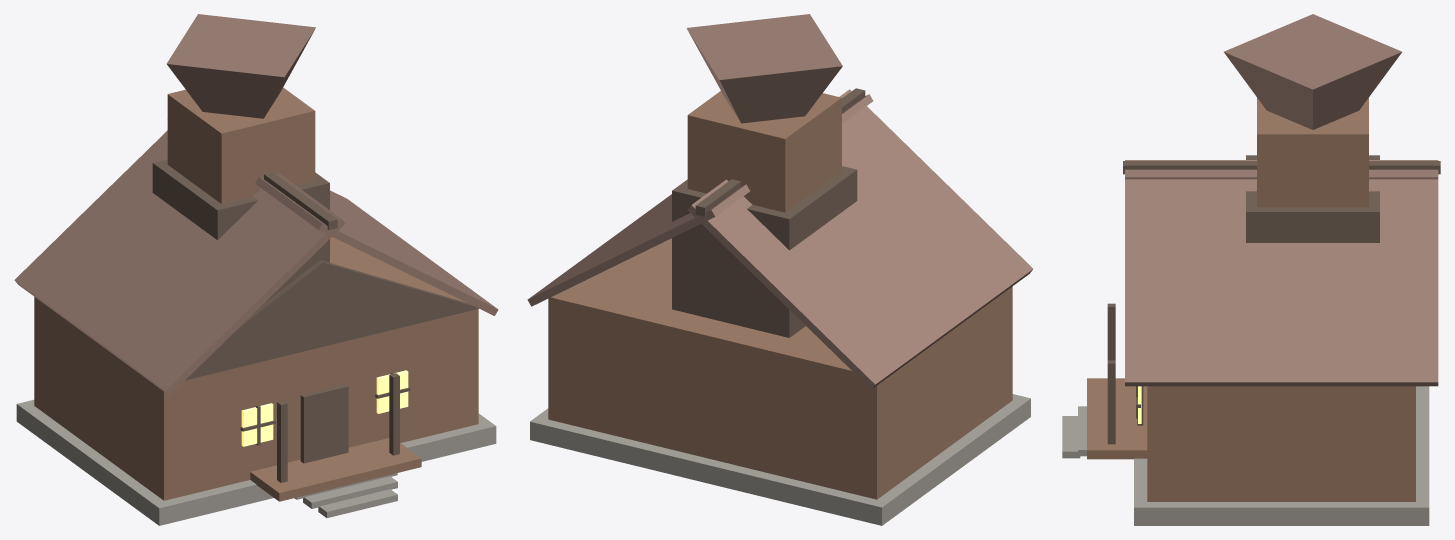
Rendered from Midgard_Old_Farm_V1_YUP.glb.
3 renders of one model, left to right at view 1: azimuth 30°, elevation 25°; view 2: azimuth 150°, elevation 25°; view 3: azimuth 270°, elevation 25°, orthographic. The views are drawn at different scales.
Visible parts, largest first — view 1: Main, RoofL, Gable, TowerUpper, TowerRoof, Foundation, RoofR, Porch, Tower, Door, Step1, Step2 (+5 smaller); view 2: Main, RoofL, Foundation, TowerUpper, Tower, TowerRoof, RoofR, RoofRidge; view 3: RoofR, Main, TowerRoof, TowerUpper, Foundation, Tower, Porch, RoofL, RoofRidge, Post1.5, Step2, Post-1.5 (+1 smaller).
Part boxes in pixels (x1,y1,x2,y2): Main: (34, 237, 478, 500); RoofL: (14, 130, 345, 395); Gable: (185, 260, 478, 380); TowerUpper: (167, 87, 315, 203); TowerRoof: (166, 14, 315, 118); Foundation: (16, 399, 496, 525); RoofR: (255, 177, 498, 315); Porch: (250, 438, 421, 501); Tower: (152, 159, 329, 303); Door: (300, 384, 348, 463); Step1: (303, 476, 397, 508); Step2: (318, 489, 397, 517); Main: (548, 238, 1012, 499); RoofL: (688, 89, 1032, 389); Foundation: (530, 394, 1030, 525); TowerUpper: (687, 91, 841, 212); Tower: (672, 166, 857, 337); TowerRoof: (686, 14, 842, 123); RoofR: (527, 94, 873, 306); RoofRidge: (695, 88, 865, 216); RoofR: (1125, 160, 1438, 386); Main: (1147, 386, 1415, 501); TowerRoof: (1224, 14, 1401, 129); TowerUpper: (1257, 98, 1368, 207); Foundation: (1134, 386, 1429, 525); Tower: (1246, 155, 1379, 242); Porch: (1087, 378, 1147, 459); RoofL: (1125, 169, 1438, 179); RoofRidge: (1123, 161, 1440, 174); Post1.5: (1107, 360, 1115, 444); Step2: (1062, 416, 1080, 458); Post-1.5: (1107, 303, 1115, 360).
Bounding box in the file's own units: 9 × 9.6 × 8.45.
